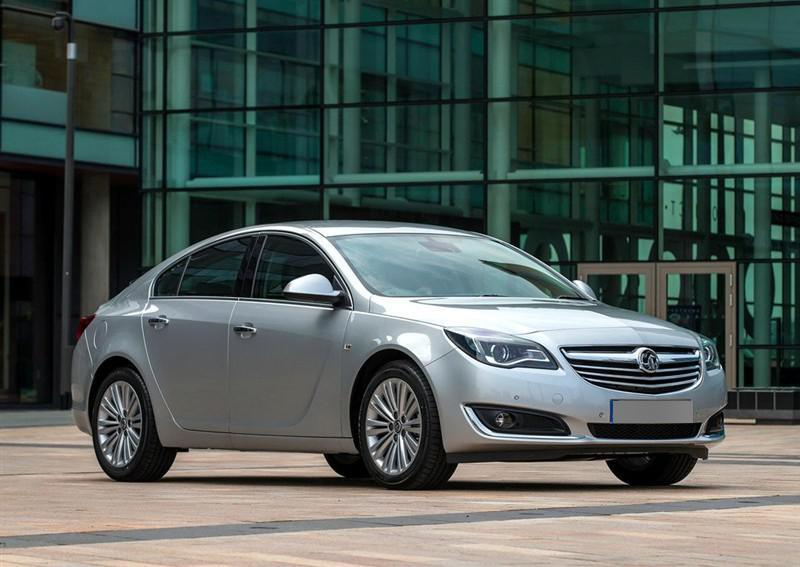Wagon: (69, 218, 730, 491)
